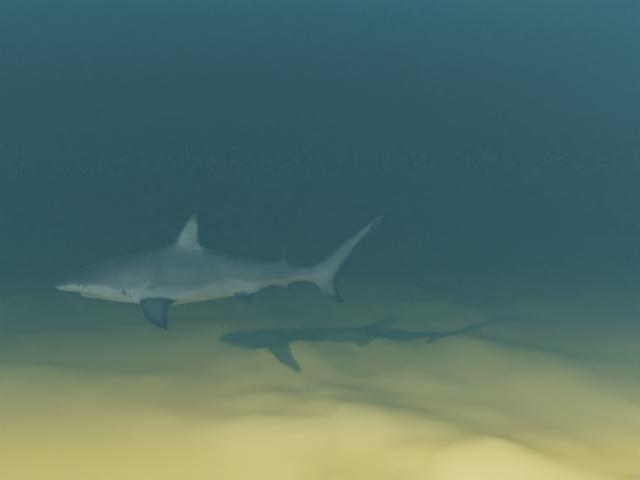Carribean Shark.001: (54, 213, 384, 330)
